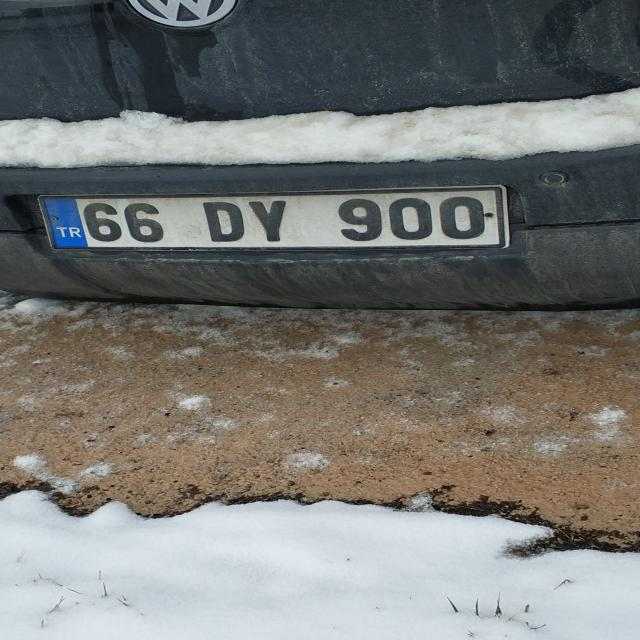plate: (37, 188, 504, 249)
